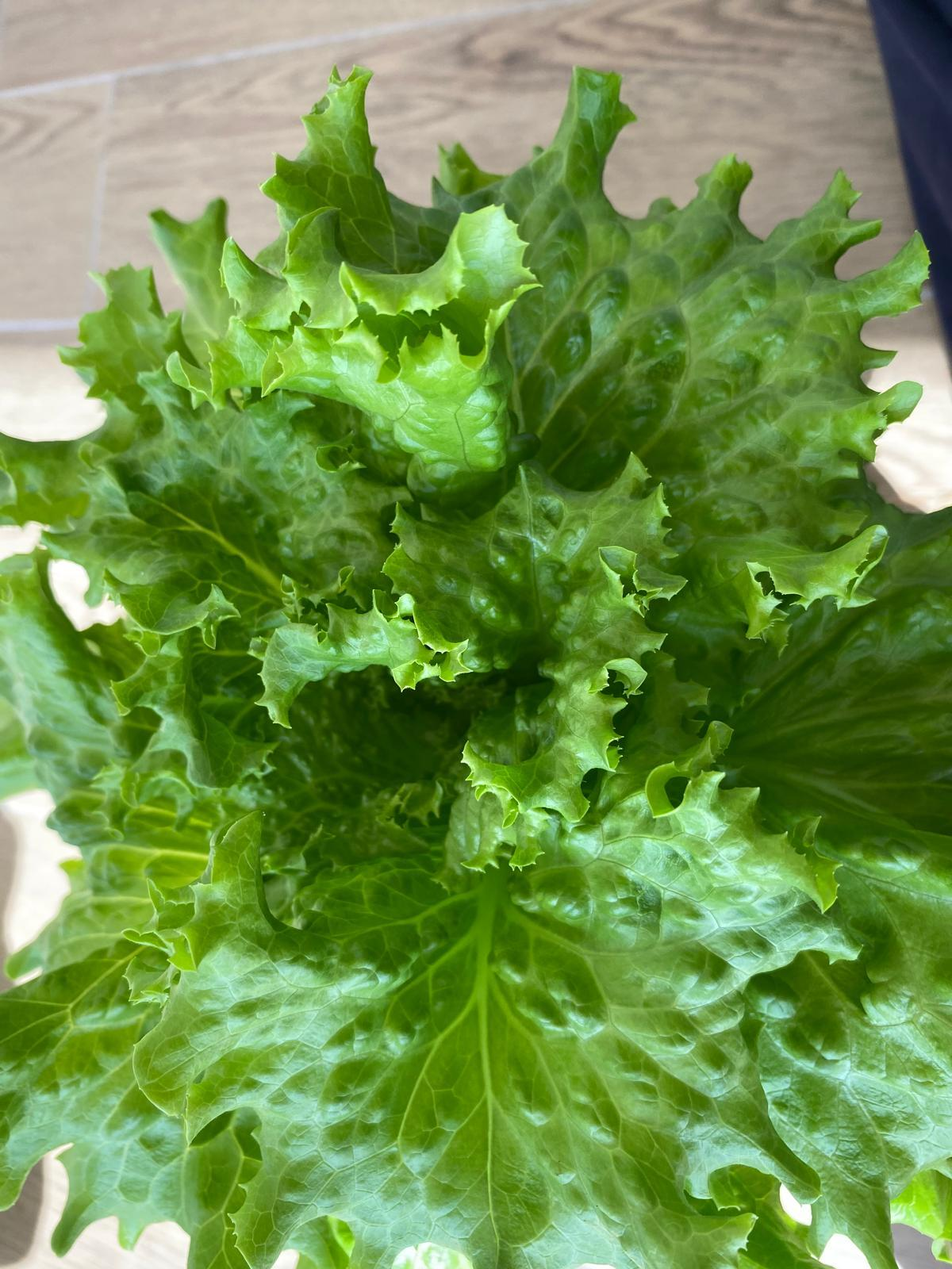Healthy: (0, 69, 952, 1269)
